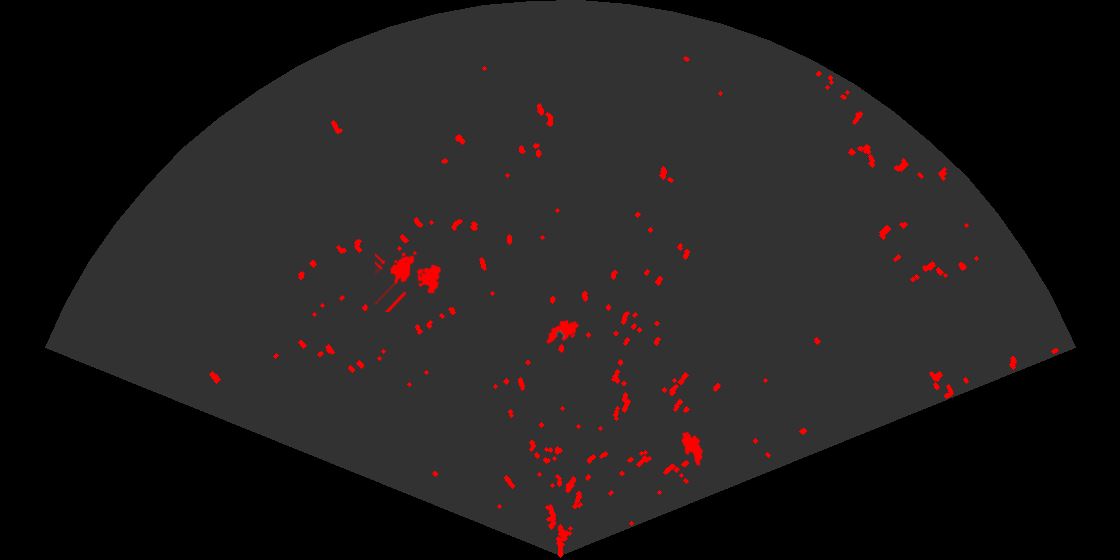AUV: (544, 318, 581, 345), (680, 430, 705, 468)
cage: (375, 249, 443, 312)
